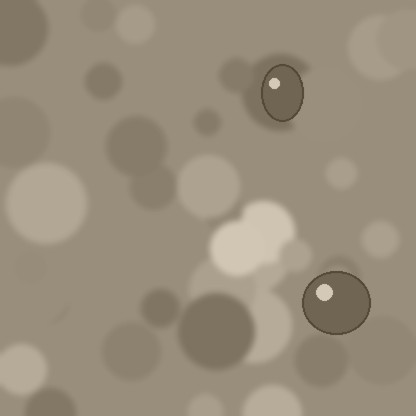gota: (302, 273, 370, 339), (261, 66, 303, 126)
